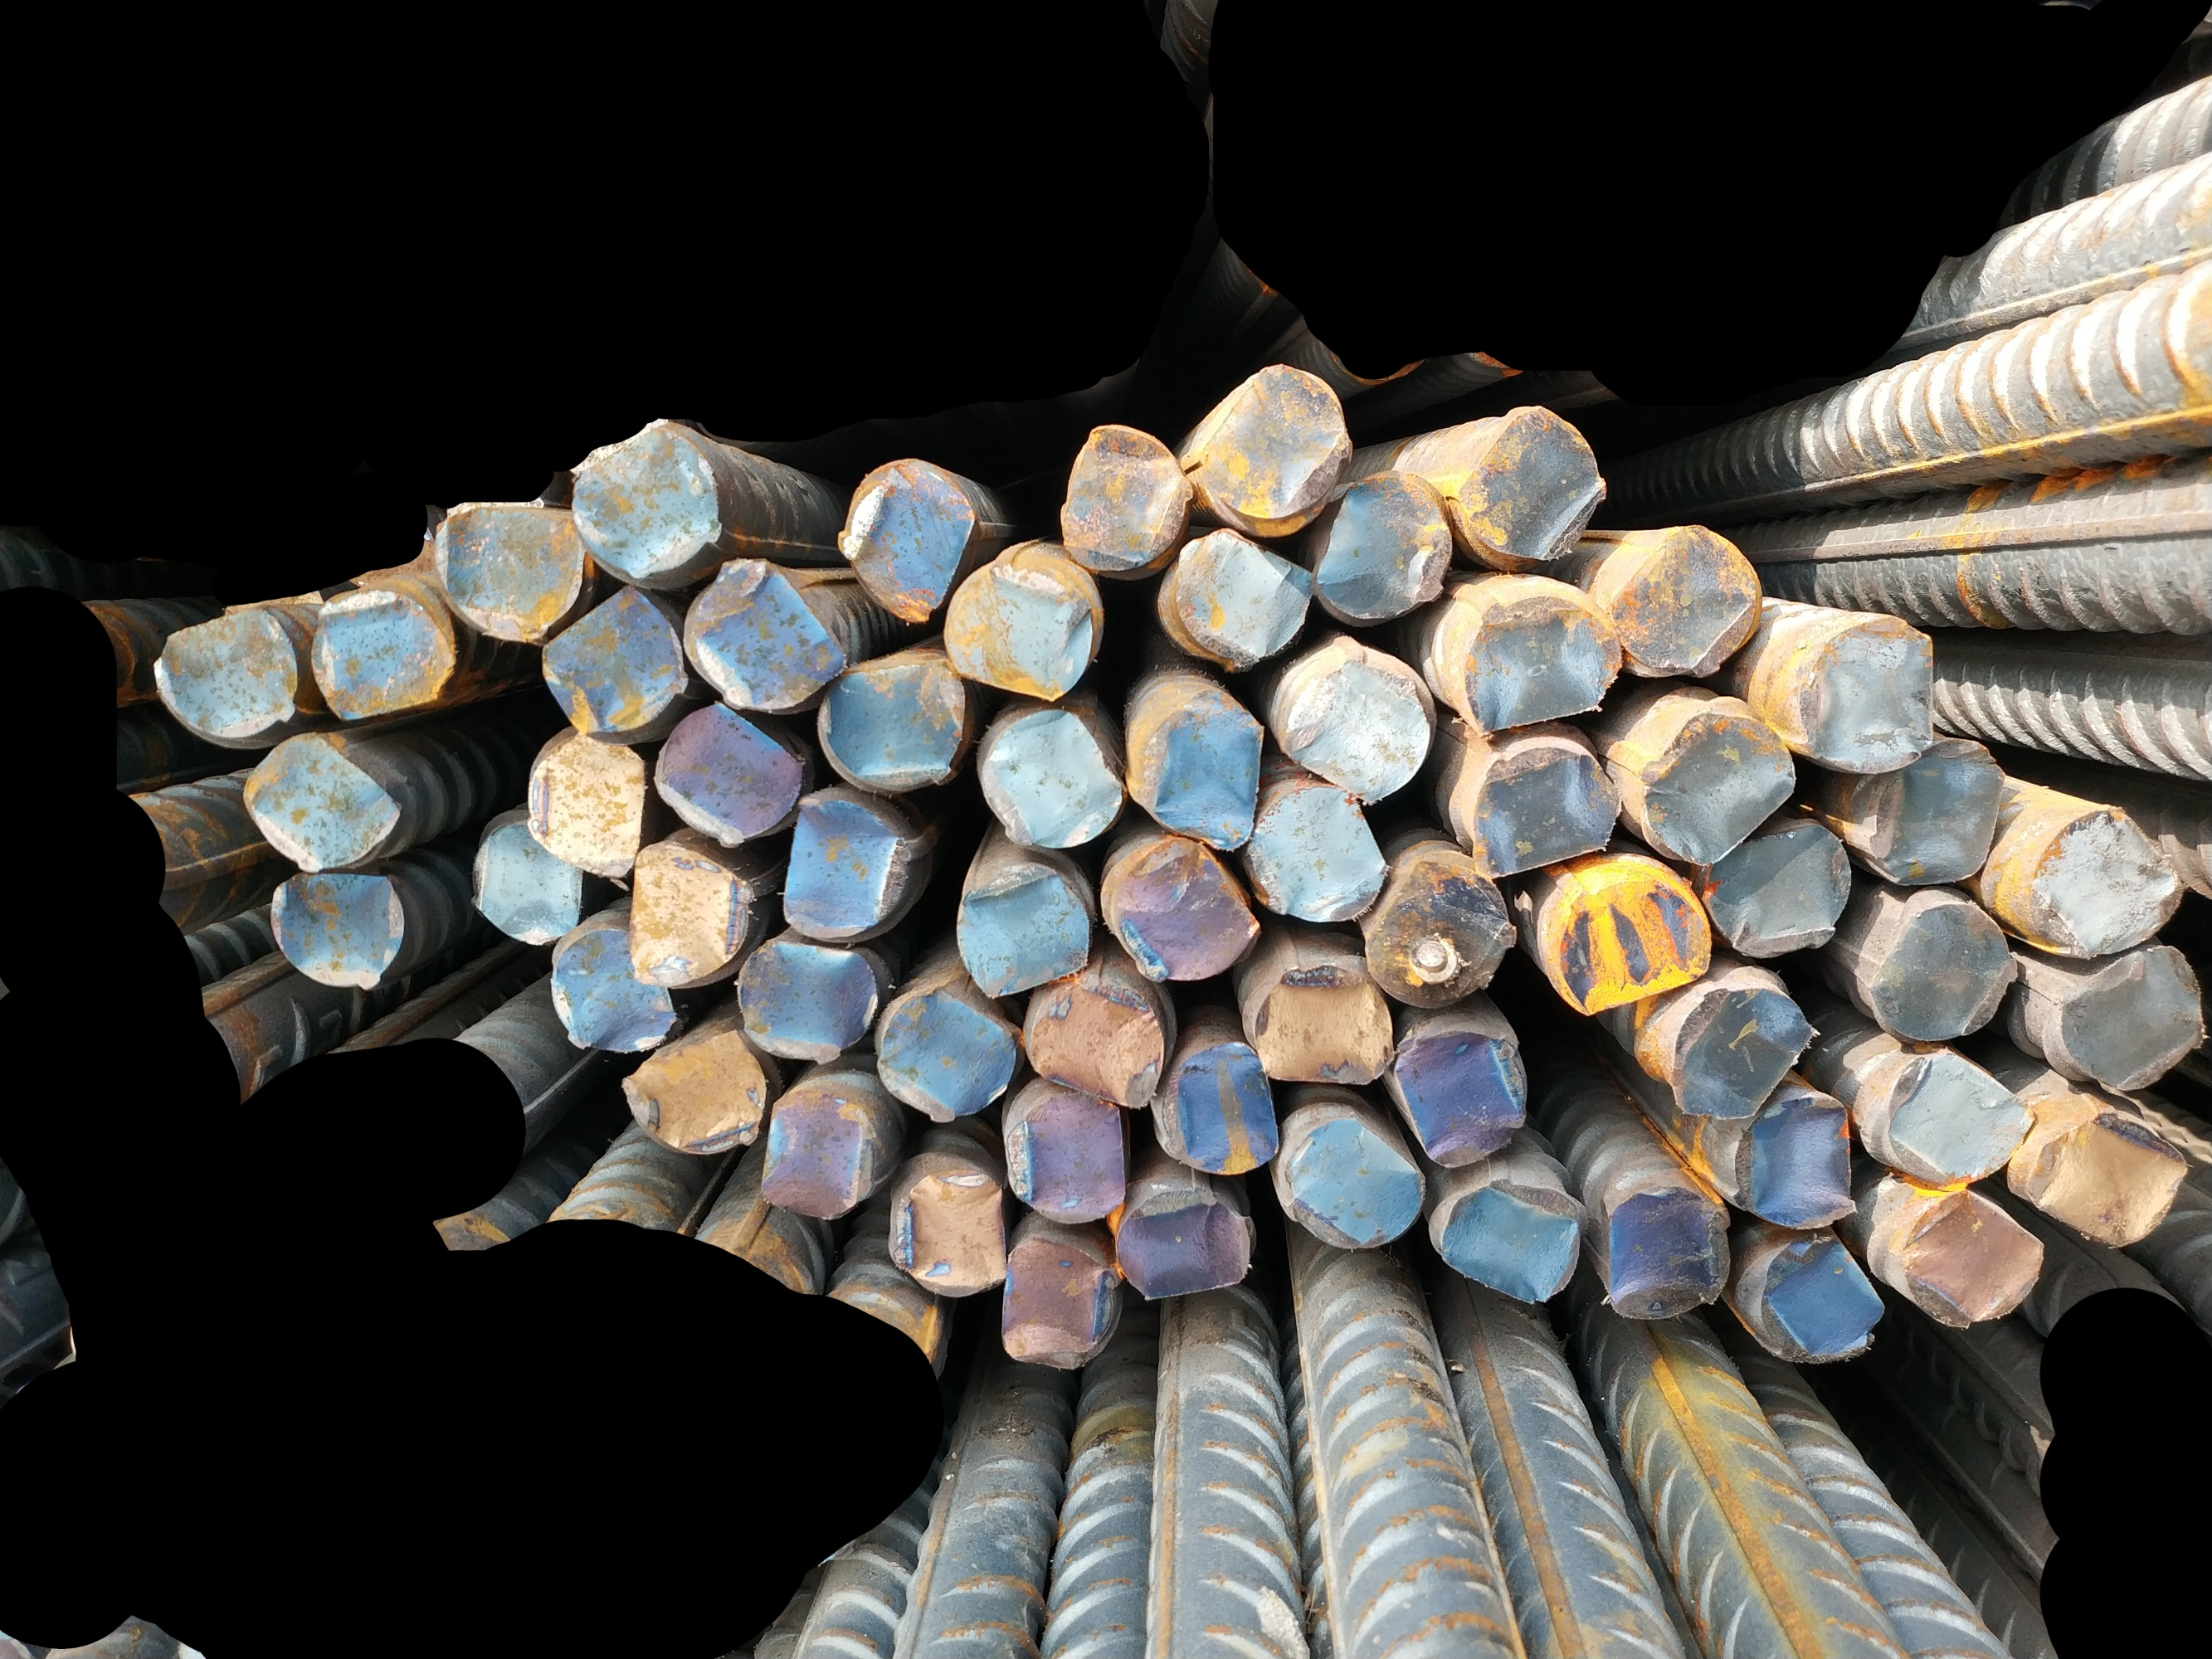rebar: (675, 551, 847, 716), (1544, 861, 1720, 1021), (1192, 359, 1358, 528), (563, 416, 727, 586), (1445, 587, 1628, 737), (1447, 403, 1607, 570), (2019, 803, 2188, 962), (1633, 708, 1797, 868), (835, 458, 985, 633), (1787, 613, 1944, 779), (1842, 735, 2008, 892), (2019, 1107, 2193, 1255), (523, 584, 685, 742), (941, 556, 1109, 709), (422, 502, 593, 652), (1605, 521, 1766, 676), (1361, 856, 1518, 1012), (1279, 647, 1435, 803), (647, 695, 807, 847), (235, 732, 404, 875), (1860, 901, 2025, 1044), (2057, 939, 2207, 1096), (1388, 1019, 1537, 1176), (1898, 1176, 2048, 1331), (146, 605, 312, 744), (1698, 819, 1856, 964), (1166, 528, 1320, 676), (302, 586, 457, 732), (981, 699, 1128, 854), (1666, 974, 1818, 1122), (1110, 838, 1264, 985), (1881, 1046, 2034, 1192), (1307, 469, 1452, 624), (1464, 742, 1623, 882), (816, 653, 967, 796), (1060, 422, 1201, 575), (1431, 1176, 1590, 1312), (727, 931, 884, 1066), (779, 788, 913, 945), (621, 842, 757, 993), (1731, 1082, 1860, 1239), (1279, 1115, 1426, 1253), (1133, 704, 1267, 854), (617, 1028, 770, 1159), (523, 727, 652, 882), (955, 859, 1095, 1002), (1250, 782, 1389, 925), (877, 986, 1021, 1124), (1018, 978, 1168, 1108), (1243, 964, 1396, 1091), (1750, 1227, 1888, 1364), (1597, 1183, 1733, 1321), (1001, 1087, 1133, 1227), (1112, 1182, 1260, 1304), (1157, 1040, 1286, 1180), (261, 868, 408, 990), (884, 1162, 1011, 1302), (549, 925, 680, 1060), (990, 1239, 1123, 1370), (755, 1089, 885, 1220), (467, 816, 587, 950)
